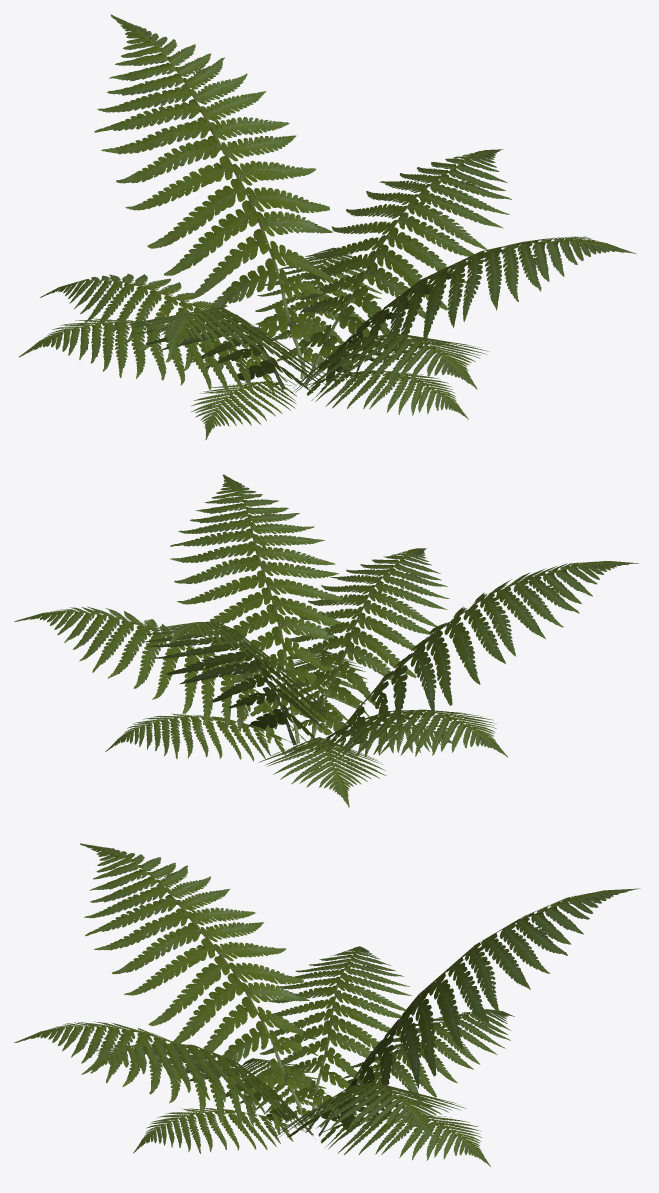
3 renders of one model, top to bottom at view 1: azimuth 30°, elevation 25°; view 2: azimuth 150°, elevation 25°; view 3: azimuth 270°, elevation 25°, orthographic. The views are drawn at different scales.
Parts seen in each view (by area): view 1: Tree_0; view 2: Tree_0; view 3: Tree_0.
Part boxes in pixels (x1,y1,x2,y2): Tree_0: (18,14,636,440); Tree_0: (14,474,638,807); Tree_0: (14,843,640,1166).
Size of the model in its own units: 2.17 by 0.9346 by 2.26.
Materials: 1 (1 with a texture image).
